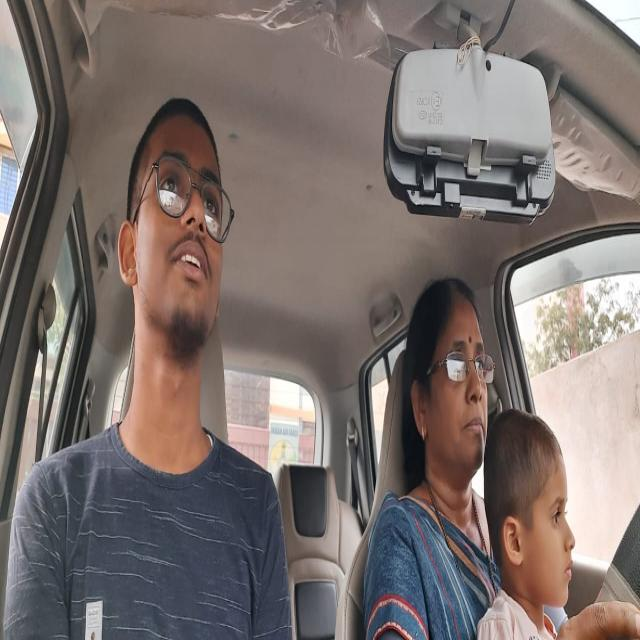child: (494, 431, 576, 604)
person: (126, 100, 229, 337), (409, 294, 490, 478)
